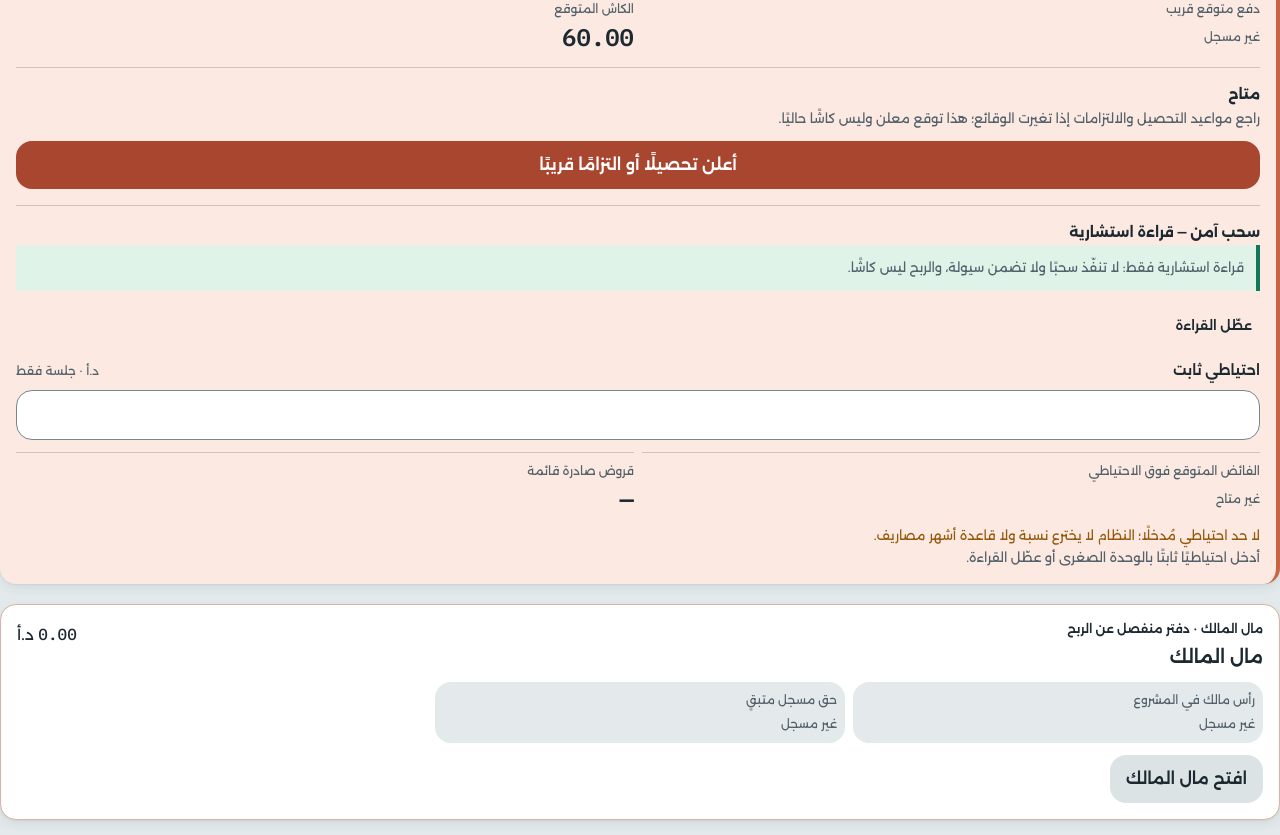
Scenario: FIN-004 (WS-176 — Wave 4): advisory safe-withdrawal reading on the cash decision › moves honestly with the horizon: the dated commitment leaves the number on the 7-day horizon
(page scrolled)
expect the text "احتياطي ثابت" is shown: met, box [1173, 361, 1260, 379]
Step 1. Type "30.00" into the field labelled "احتياطي ثابت د.أ · جلسة فقط" → (638, 415), box [16, 390, 1260, 440]
(page scrolled)
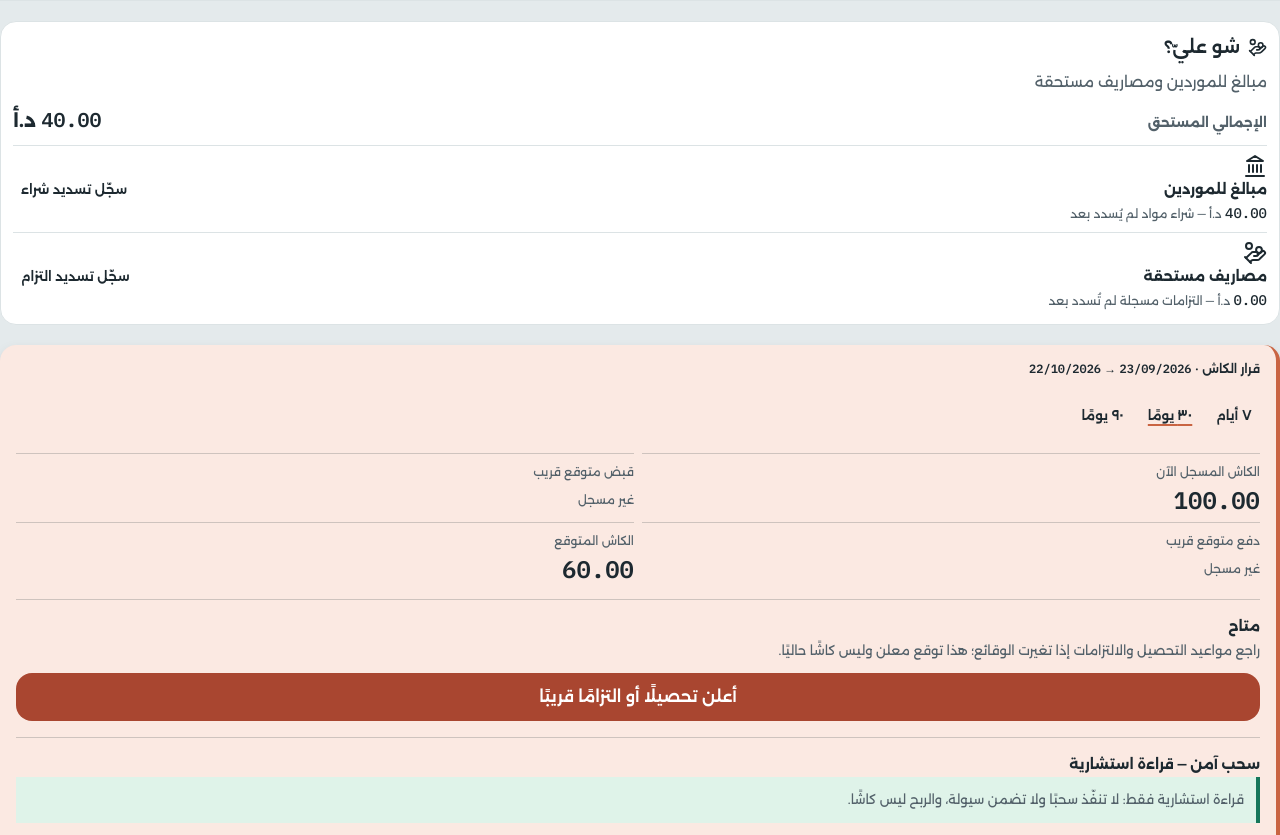
Step 2. Click the button "٧ أيام" → (1234, 415), box [1208, 393, 1260, 437]
(page scrolled)
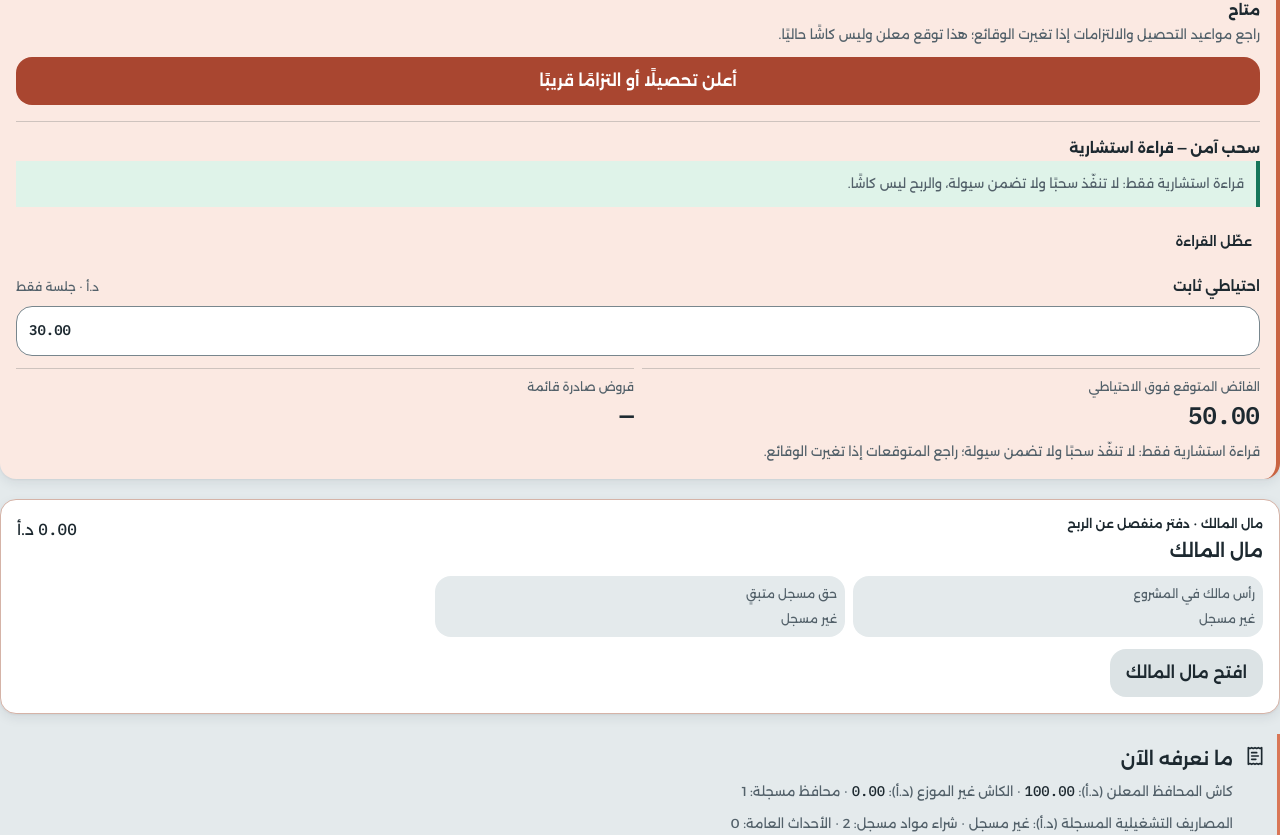
expect the text "50.00" is shown: met, box [1188, 399, 1260, 431]
